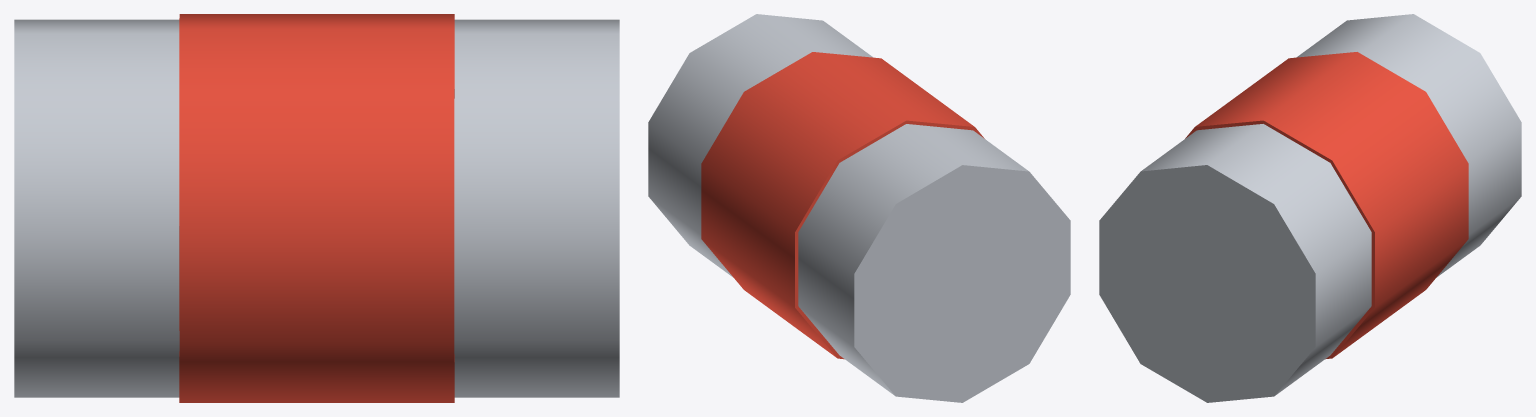
The model's file is debris_can.glb.
3 renders of one model, left to right at view 1: azimuth 30°, elevation 25°; view 2: azimuth 150°, elevation 25°; view 3: azimuth 270°, elevation 25°, orthographic. The views are drawn at different scales.
Parts seen in each view (by area): view 1: debris_can_mesh; view 2: debris_can_mesh; view 3: debris_can_mesh.
Part boxes in pixels (x1,y1,x2,y2): debris_can_mesh: (14, 14, 619, 402); debris_can_mesh: (648, 14, 1070, 402); debris_can_mesh: (1099, 14, 1521, 402).
Bounding box in the file's own units: 0.2571 × 0.144 × 0.2253.
1 material, 1 textured.
